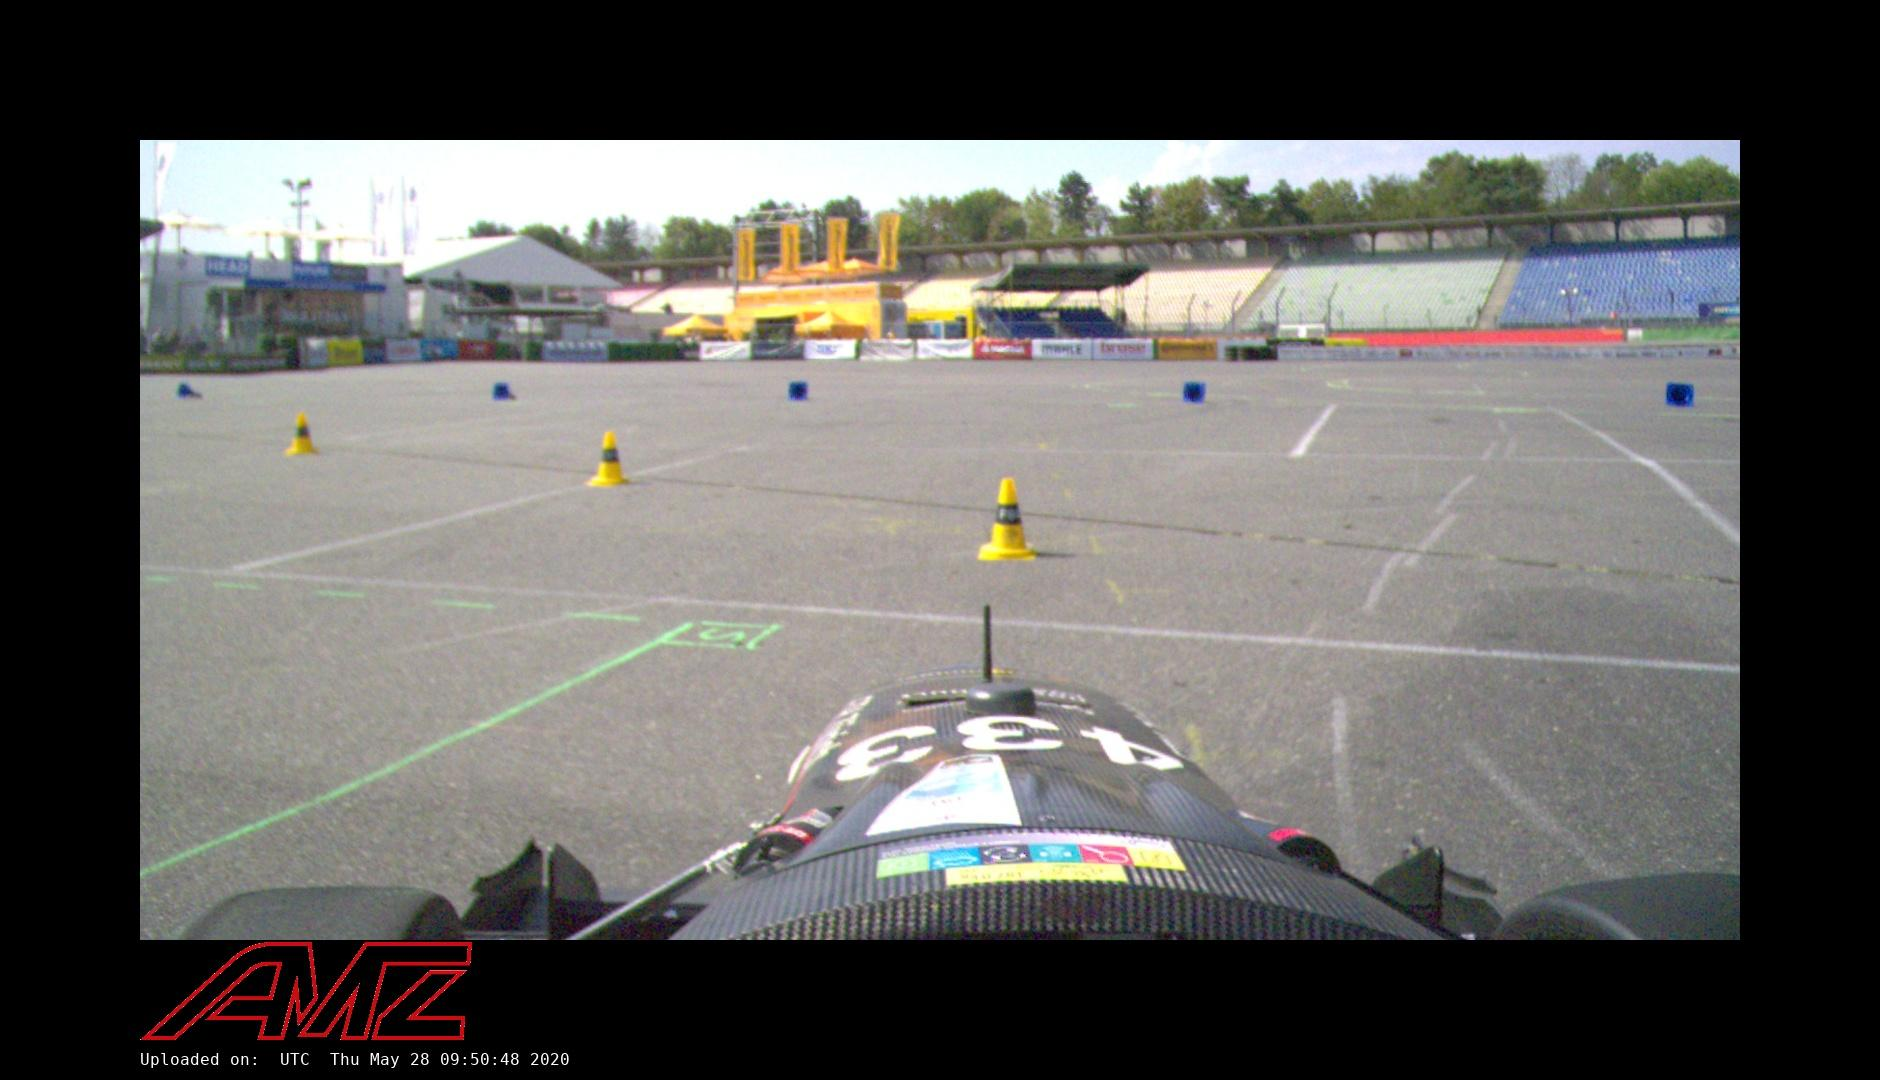blue_cone: (174, 382, 204, 400), (492, 382, 516, 403)
yellow_cone: (976, 477, 1039, 562), (585, 430, 631, 488), (283, 412, 319, 457)
